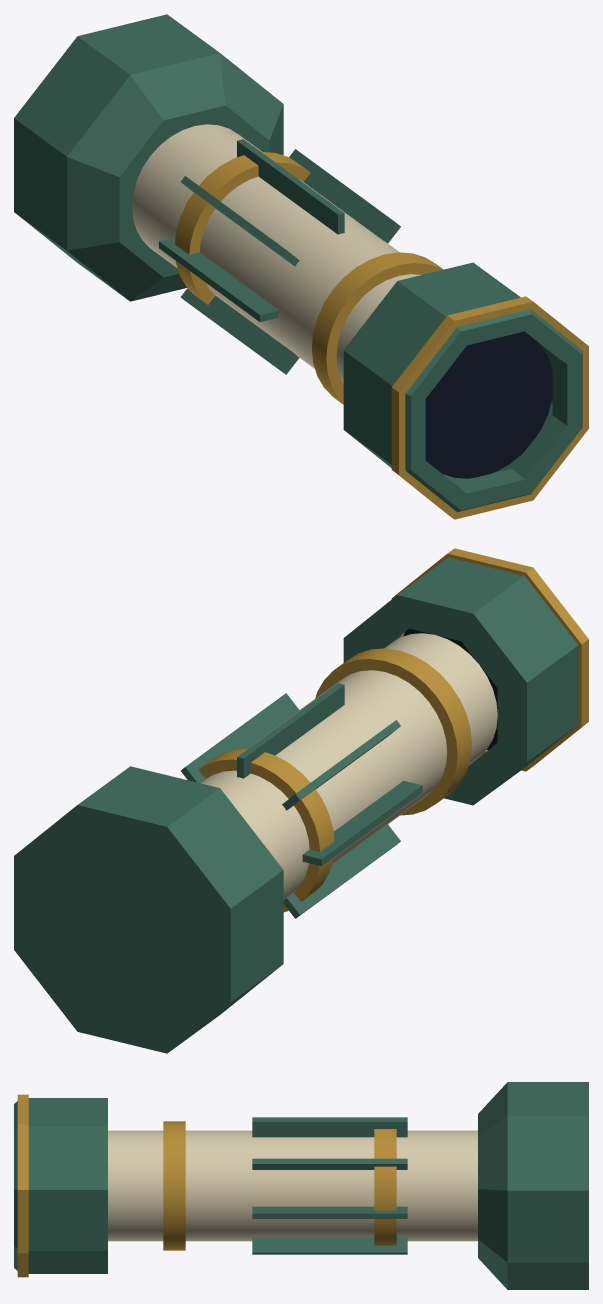
The model's file is pd3_emitter.obj.
3 renders of one model, top to bottom at view 1: azimuth 30°, elevation 25°; view 2: azimuth 150°, elevation 25°; view 3: azimuth 270°, elevation 25°, orthographic. The views are drawn at different scales.
Visible parts, largest first — view 1: pd3_emitter; view 2: pd3_emitter; view 3: pd3_emitter.
Part boxes in pixels (x1,y1,x2,y2): pd3_emitter: (14,14,588,519); pd3_emitter: (14,548,588,1053); pd3_emitter: (14,1082,588,1289).
Size of the model in its own units: 0.52 by 0.52 by 1.55.
